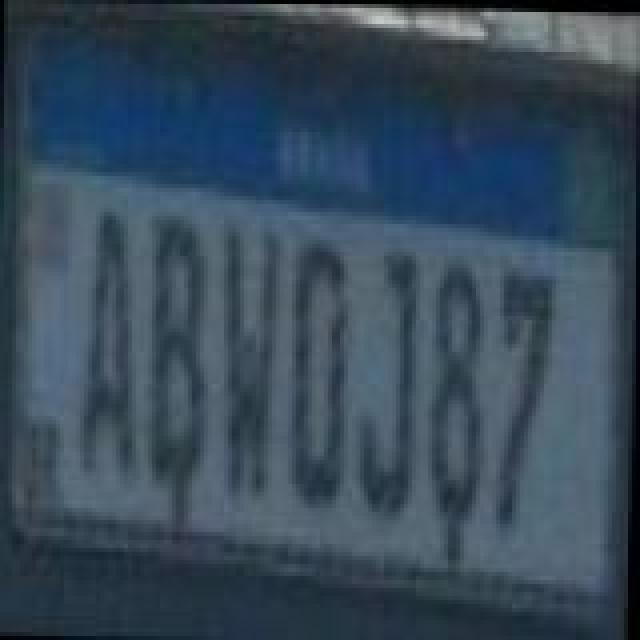7: (488, 264, 556, 540)
8: (424, 254, 492, 530)
A: (76, 206, 148, 478)
B: (144, 212, 216, 484)
D: (288, 234, 360, 510)
J: (352, 236, 424, 512)
W: (216, 216, 288, 504)
